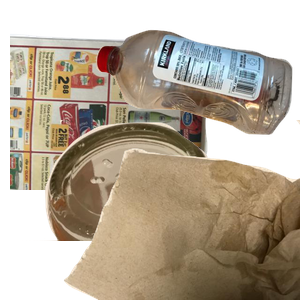glass: (22, 120, 233, 300)
paper: (10, 31, 214, 211)
plastic: (93, 27, 300, 154)
trash: (60, 120, 300, 300)
